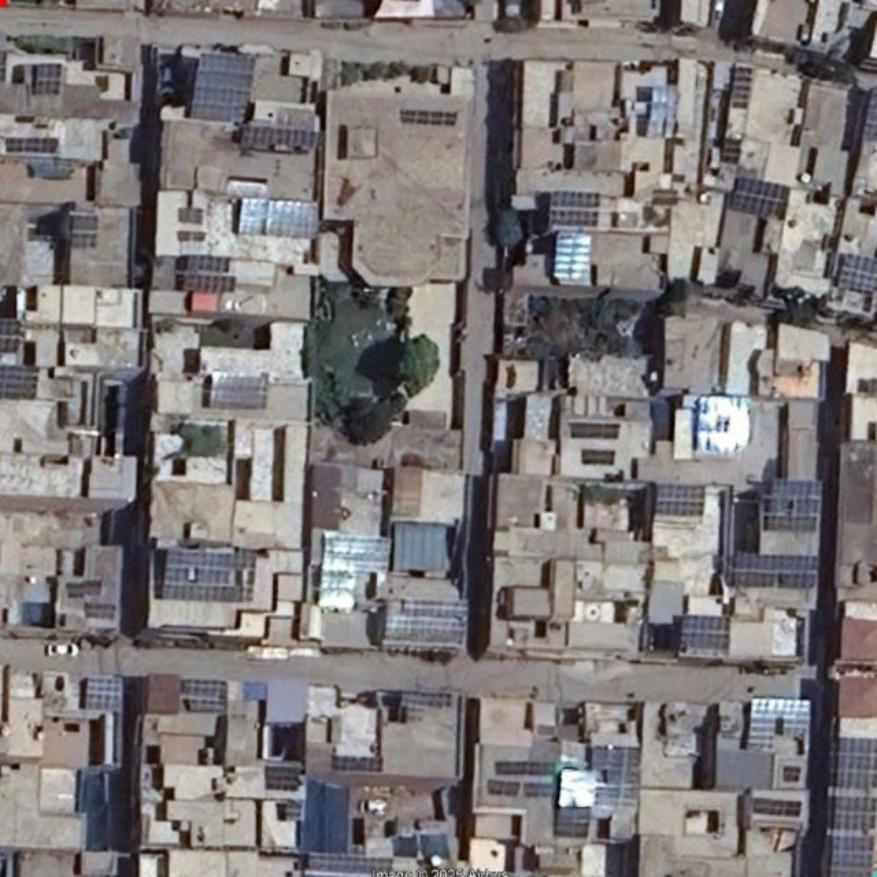Solarpanel: (829, 737, 876, 875), (319, 533, 391, 609), (160, 549, 256, 600), (192, 53, 254, 123), (383, 602, 470, 647), (736, 552, 823, 589), (237, 200, 320, 237), (766, 481, 823, 532), (594, 752, 642, 808), (698, 397, 744, 451), (748, 699, 809, 736), (733, 176, 790, 215), (211, 372, 266, 408), (548, 191, 601, 225), (185, 255, 235, 291), (680, 614, 730, 649), (242, 126, 322, 147), (308, 854, 392, 874), (657, 482, 704, 515), (838, 251, 876, 291), (0, 364, 40, 398), (86, 676, 122, 707), (70, 214, 99, 249), (402, 109, 456, 126), (752, 797, 803, 815), (560, 809, 589, 840), (401, 689, 452, 706), (498, 762, 558, 776), (572, 422, 617, 440), (180, 680, 227, 697), (8, 138, 59, 153), (264, 768, 300, 789), (36, 66, 59, 93), (334, 758, 382, 770), (68, 581, 100, 599), (582, 448, 613, 463), (524, 783, 557, 797), (490, 779, 517, 795), (88, 604, 113, 616)
